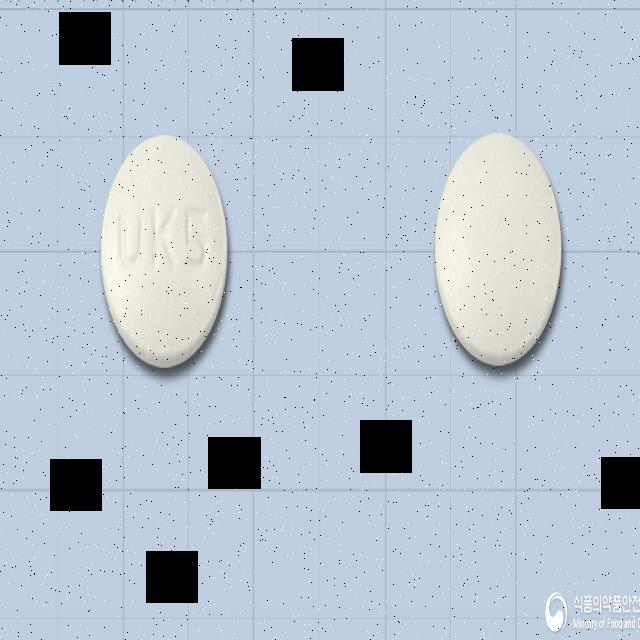Uniciprosacin Tab: (101, 131, 229, 370)
